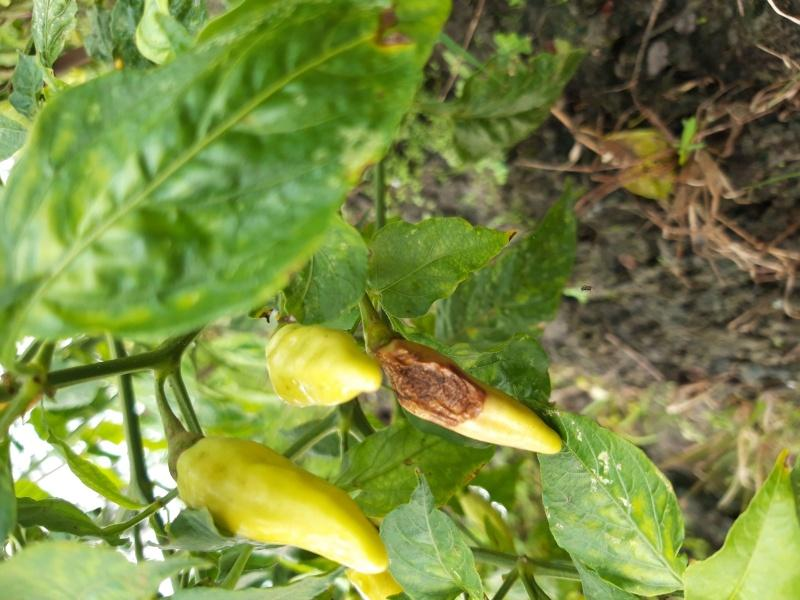antraknosa: (374, 334, 568, 460)
cabai_normal: (167, 436, 393, 582), (262, 322, 383, 416)
